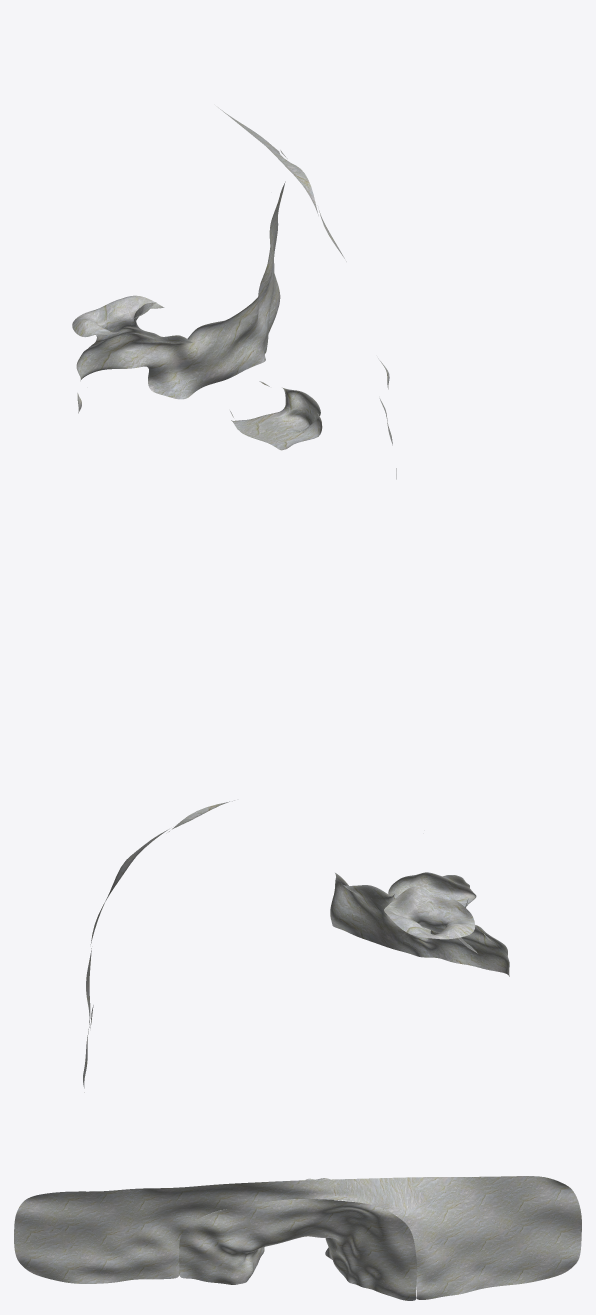
The model's file is Moutains.gltf.
The picture shows the model from 3 angles, top to bottom: view 1: azimuth 30°, elevation 25°; view 2: azimuth 150°, elevation 25°; view 3: azimuth 270°, elevation 25°; orthographic projection. The views are drawn at different scales.
Visible parts, largest first — view 1: Cube.002, Cube.004; view 2: Cube.002, Cube.004; view 3: Cube.004, Cube.002.
Part boxes in pixels (box(x1,y1,x2,y2)): Cube.002: box(72, 150, 396, 479); Cube.004: box(218, 107, 318, 215); Cube.002: box(330, 872, 509, 976); Cube.004: box(83, 800, 234, 1092); Cube.004: box(14, 1176, 581, 1299); Cube.002: box(179, 1178, 416, 1300).
Size of the model in its own units: 27.03 by 19.09 by 89.84.
1 material, 1 textured.
